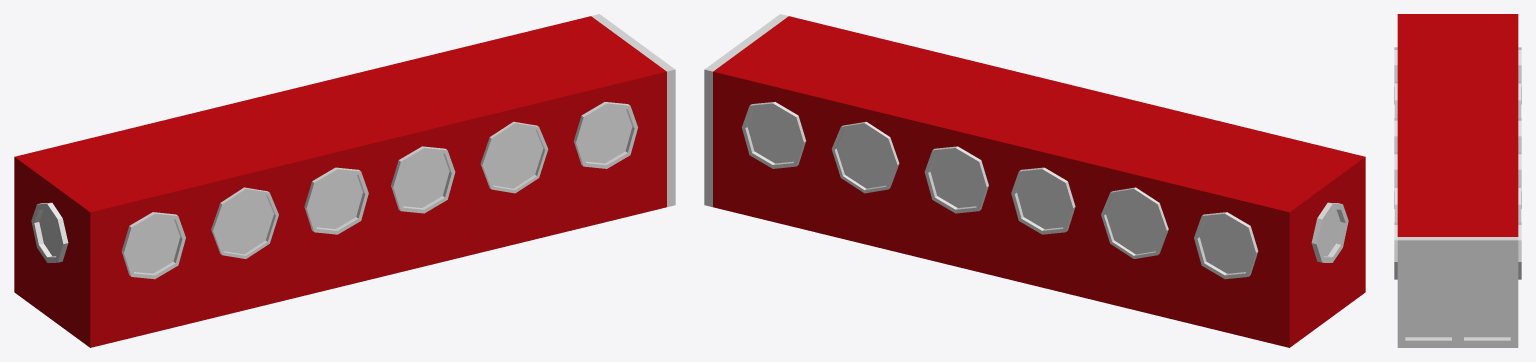
File: long.fbx
3 views of the same model, side by side, from view 1: azimuth 30°, elevation 25°; view 2: azimuth 150°, elevation 25°; view 3: azimuth 270°, elevation 25° (orthographic). The views are drawn at different scales.
Visible parts, largest first — view 1: long; view 2: long; view 3: long.
Boxes of the visible parts, bbox=[...] form: long: bbox=[14, 14, 675, 347]; long: bbox=[704, 14, 1365, 347]; long: bbox=[1394, 14, 1521, 347].
Size of the model in its own units: 806 by 177 by 190.
